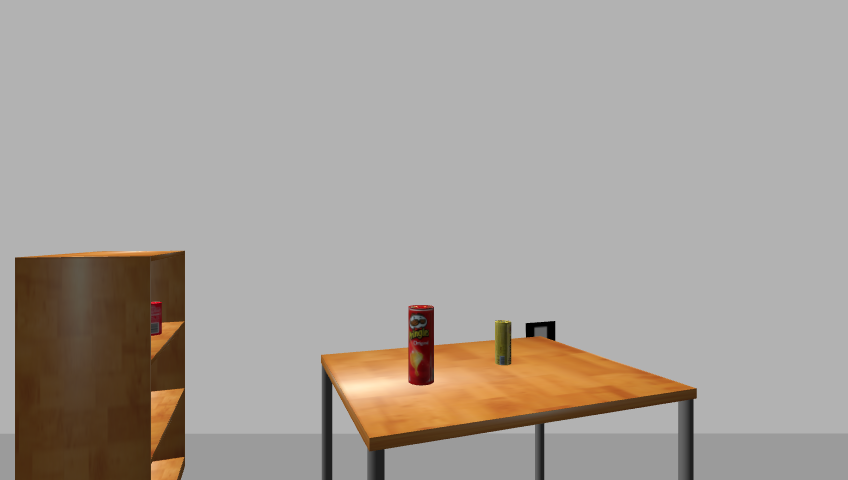aruco marker: (524, 320, 559, 343)
biscuits pack: (494, 320, 511, 367)
bookshelf: (10, 249, 190, 479)
coke can: (149, 302, 164, 336)
dinner table: (314, 336, 705, 480)
pringles can: (405, 304, 437, 388)
